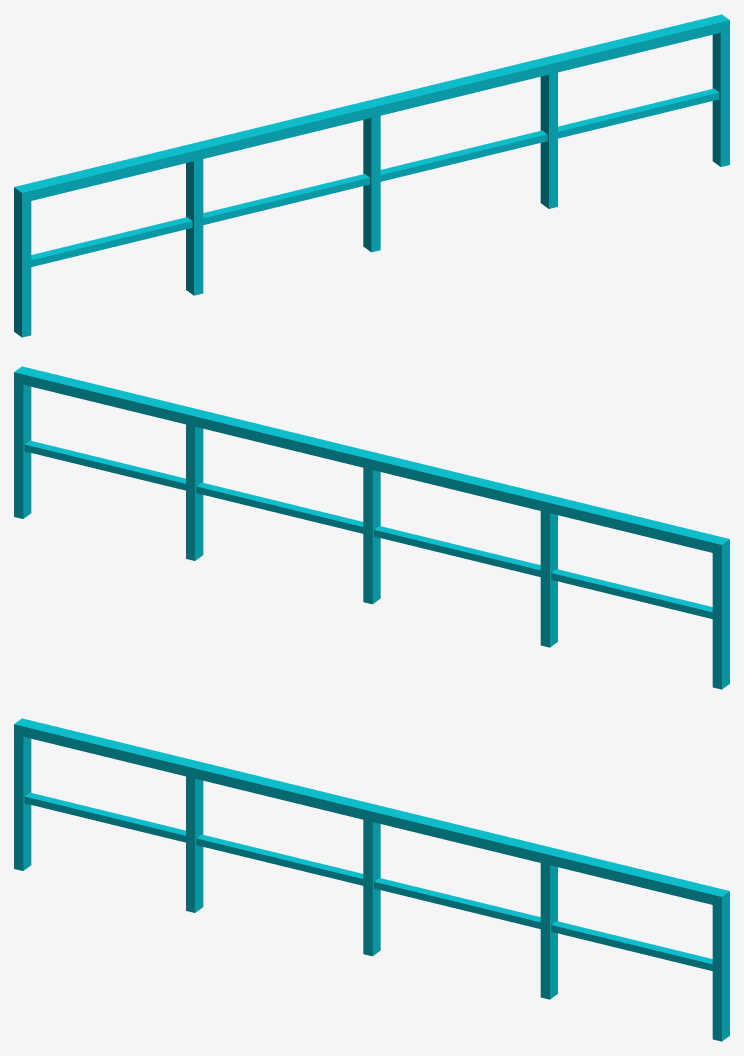
Rendered from Partitions_080.glb.
The picture shows the model from 3 angles, top to bottom: view 1: azimuth 30°, elevation 25°; view 2: azimuth 150°, elevation 25°; view 3: azimuth 330°, elevation 25°; orthographic projection.
Parts seen in each view (by area): view 1: Partitions_080; view 2: Partitions_080; view 3: Partitions_080.
Part boxes in pixels (bbox=[...]): Partitions_080: bbox=[14, 14, 729, 337]; Partitions_080: bbox=[14, 366, 729, 689]; Partitions_080: bbox=[14, 718, 729, 1041].
Size of the model in its own units: 4 by 0.781 by 0.0793.
Materials: 1 (1 with a texture image).
